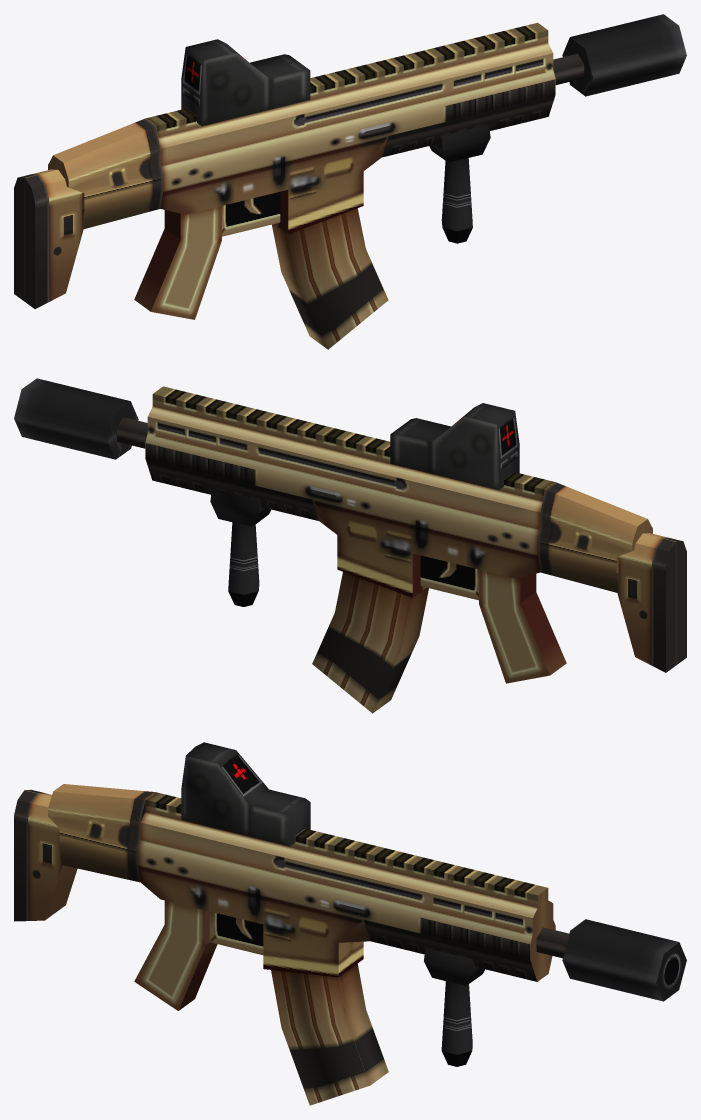
Rendered from rifle scar lv3.FBX.
3 views of the same model, one above another, from view 1: azimuth 30°, elevation 25°; view 2: azimuth 150°, elevation 25°; view 3: azimuth 330°, elevation 25° (orthographic).
Visible parts, largest first — view 1: Object059; view 2: Object059; view 3: Object059.
Boxes of the visible parts, <box> form: Object059: <box>14,14,686,349</box>; Object059: <box>14,378,686,713</box>; Object059: <box>14,742,686,1105</box>.
Size of the model in its own units: 84.48 by 40.15 by 6.97.
